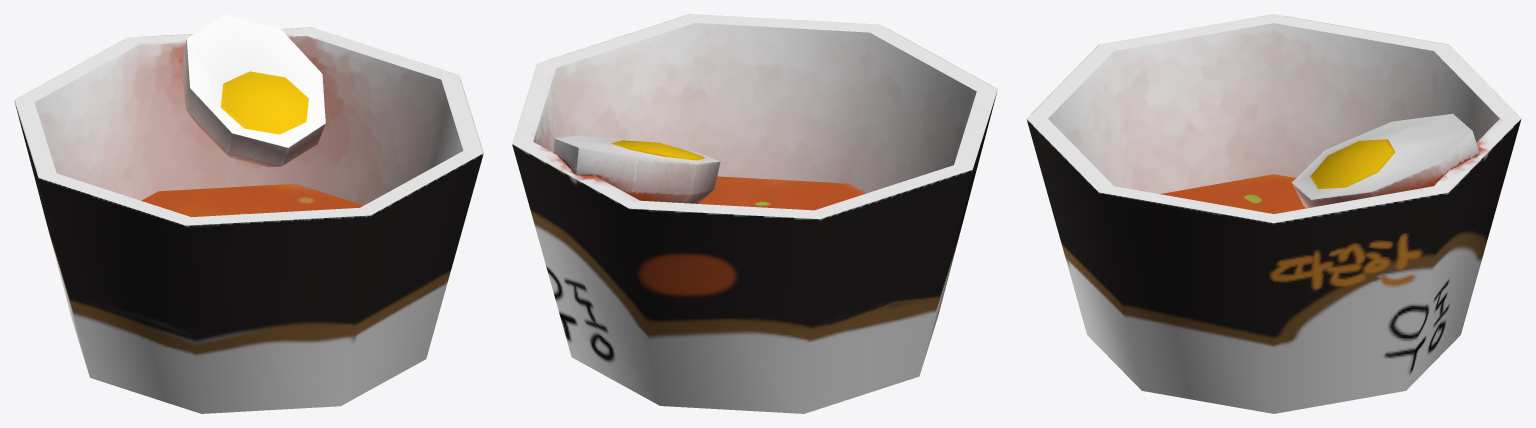
Rendered from ramen_2_.fbx.
3 views of the same model, side by side, from view 1: azimuth 30°, elevation 25°; view 2: azimuth 150°, elevation 25°; view 3: azimuth 270°, elevation 25° (orthographic). The views are drawn at different scales.
Parts seen in each view (by area): view 1: Cylinder.001; view 2: Cylinder.001; view 3: Cylinder.001.
Part boxes in pixels (left/top/right/bottom): Cylinder.001: left=14, top=14, right=483, bottom=413; Cylinder.001: left=512, top=14, right=997, bottom=413; Cylinder.001: left=1026, top=14, right=1521, bottom=413.
Bounding box in the file's own units: 14.05 × 7.52 × 14.05.
